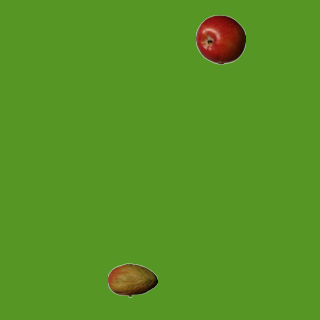Apple Braeburn: (195, 14, 245, 64)
Papaya: (107, 255, 157, 305)
